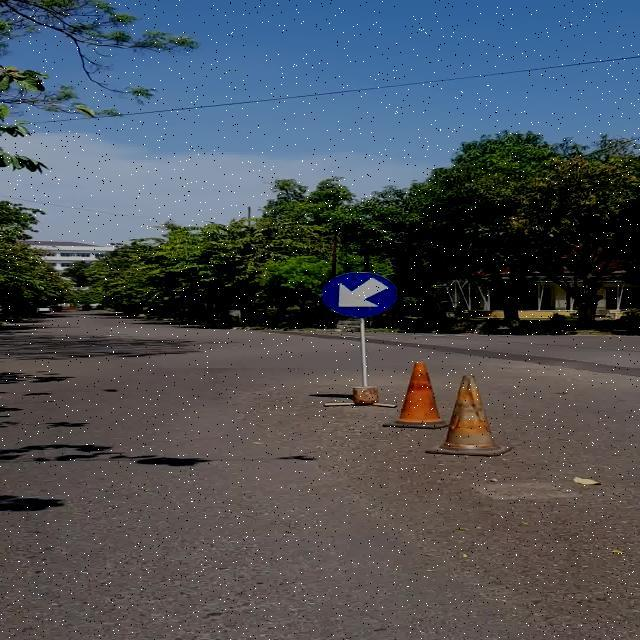Lajur Kiri: (322, 272, 398, 317)
